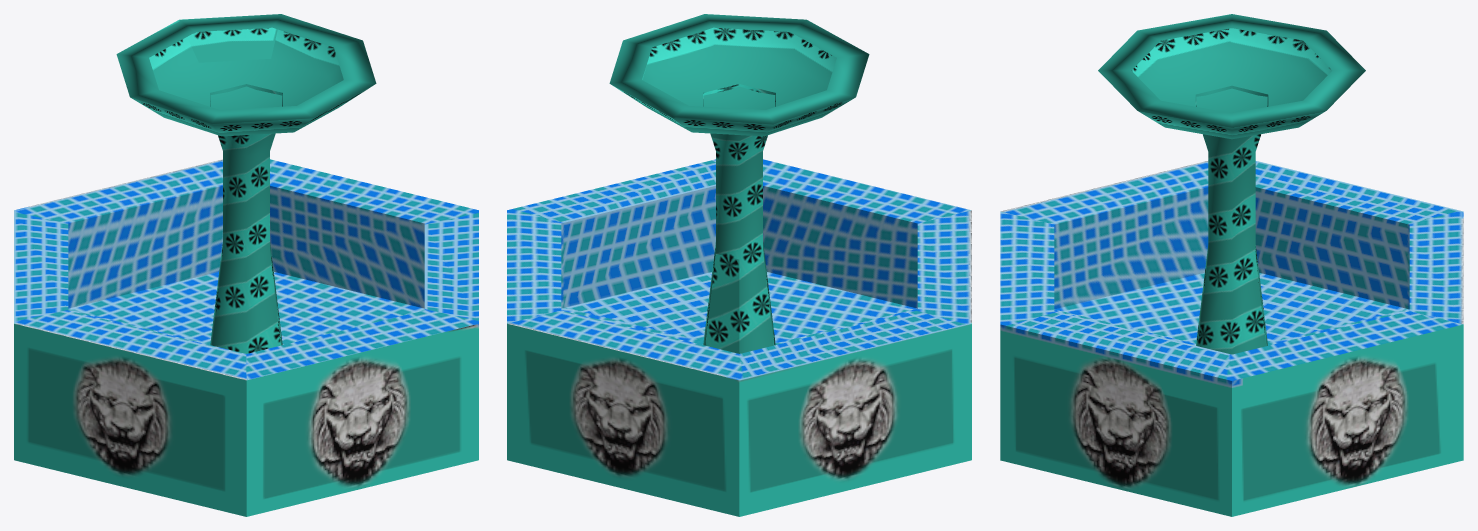
The model's file is Fountain.fbx.
The picture shows the model from 3 angles, left to right: view 1: azimuth 30°, elevation 25°; view 2: azimuth 150°, elevation 25°; view 3: azimuth 270°, elevation 25°; orthographic projection.
Parts seen in each view (by area): view 1: TODOS:polySurface12; view 2: TODOS:polySurface12; view 3: TODOS:polySurface12.
Part boxes in pixels (left/top/right/bottom): TODOS:polySurface12: left=14, top=14, right=478, bottom=516; TODOS:polySurface12: left=507, top=14, right=971, bottom=516; TODOS:polySurface12: left=1000, top=14, right=1463, bottom=516.
Size of the model in its own units: 11.03 by 7.58 by 9.55.
